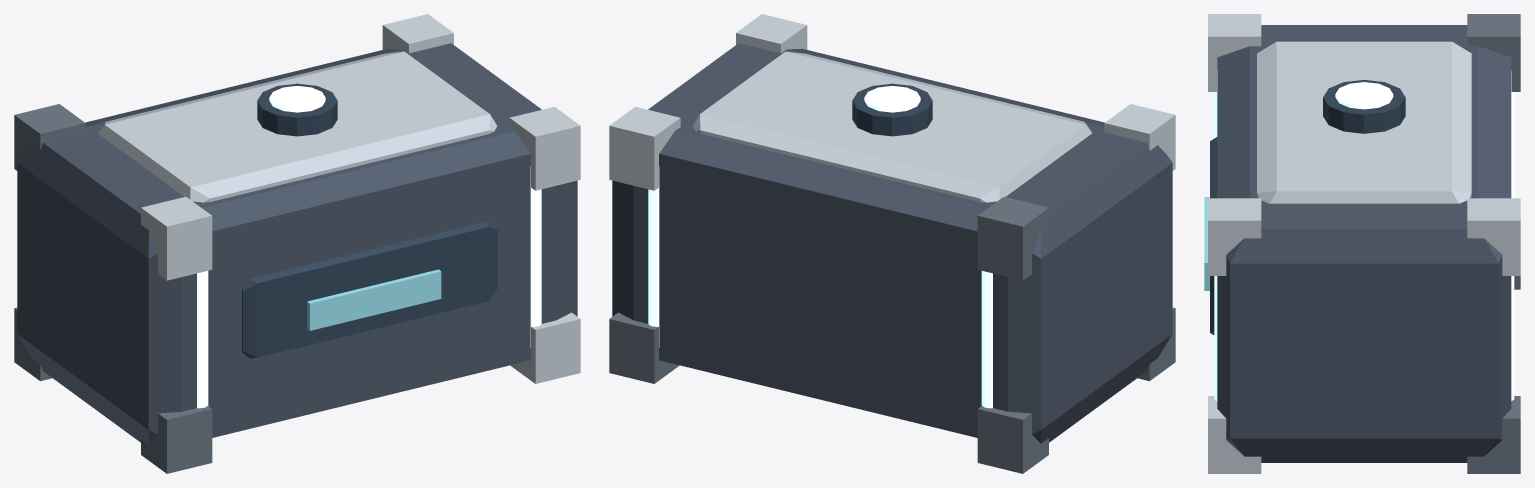
File: box_loot.glb
3 views of the same model, side by side, from view 1: azimuth 30°, elevation 25°; view 2: azimuth 150°, elevation 25°; view 3: azimuth 270°, elevation 25° (orthographic). The views are drawn at different scales.
Visible parts, largest first — view 1: sci_fi_chassis, reinforced_lid, front_interface_armor, outer_corner_joint_011, outer_corner_joint_111, front_hologram_window, outer_corner_joint_010, outer_corner_joint_110, top_lock, outer_corner_joint_001, outer_corner_joint_101, vert_front_rear_11 (+3 smaller); view 2: sci_fi_chassis, reinforced_lid, outer_corner_joint_001, outer_corner_joint_101, outer_corner_joint_000, outer_corner_joint_100, top_lock, outer_corner_joint_011, outer_corner_joint_111, vert_front_rear_1-1, vert_front_rear_-1-1, top_lock_energy (+1 smaller); view 3: sci_fi_chassis, reinforced_lid, outer_corner_joint_101, outer_corner_joint_111, top_lock, outer_corner_joint_001, outer_corner_joint_011, outer_corner_joint_100, outer_corner_joint_110, top_lock_energy, front_interface_armor, vert_front_rear_11 (+3 smaller).
Part boxes in pixels (x1,y1,x2,y2): sci_fi_chassis: [17, 43, 577, 443]; reinforced_lid: [97, 51, 497, 202]; front_interface_armor: [242, 221, 497, 358]; outer_corner_joint_011: [141, 196, 212, 280]; outer_corner_joint_111: [509, 106, 580, 190]; front_hologram_window: [307, 269, 441, 330]; outer_corner_joint_010: [141, 406, 212, 473]; outer_corner_joint_110: [510, 312, 580, 383]; top_lock: [257, 83, 337, 136]; outer_corner_joint_001: [14, 104, 85, 170]; outer_corner_joint_101: [382, 14, 453, 53]; vert_front_rear_11: [530, 166, 541, 347]; sci_fi_chassis: [612, 43, 1172, 443]; reinforced_lid: [692, 51, 1092, 202]; outer_corner_joint_001: [977, 196, 1048, 280]; outer_corner_joint_101: [609, 106, 680, 190]; outer_corner_joint_000: [977, 406, 1048, 473]; outer_corner_joint_100: [609, 312, 679, 383]; top_lock: [852, 83, 932, 136]; outer_corner_joint_011: [1104, 104, 1175, 170]; outer_corner_joint_111: [736, 14, 807, 53]; vert_front_rear_1-1: [648, 166, 659, 347]; vert_front_rear_-1-1: [981, 271, 992, 408]; top_lock_energy: [864, 86, 920, 112]; sci_fi_chassis: [1217, 25, 1511, 462]; reinforced_lid: [1257, 41, 1471, 203]; outer_corner_joint_101: [1467, 198, 1520, 275]; outer_corner_joint_111: [1208, 198, 1261, 275]; top_lock: [1323, 79, 1405, 133]; outer_corner_joint_001: [1467, 14, 1520, 91]; outer_corner_joint_011: [1208, 14, 1261, 91]; outer_corner_joint_100: [1467, 396, 1520, 473]; outer_corner_joint_110: [1208, 396, 1261, 473]; top_lock_energy: [1335, 82, 1393, 109]; front_interface_armor: [1210, 137, 1217, 334]; vert_front_rear_11: [1214, 276, 1217, 400].
Bounding box in the file's own units: 2 × 1.2 × 1.24.
